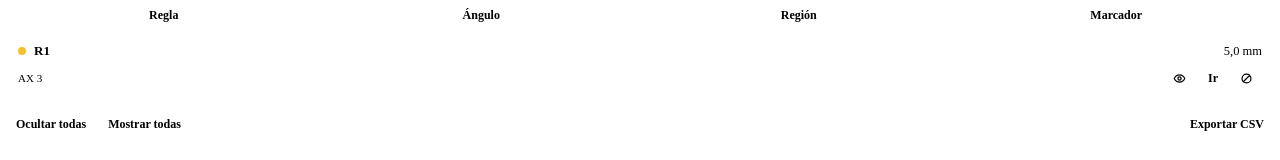
Test case: AnnotationsPanel › renombrar por clic escribe en el store
Click the text "R1": click(42, 50) x1=34 y1=43 x2=50 y2=58
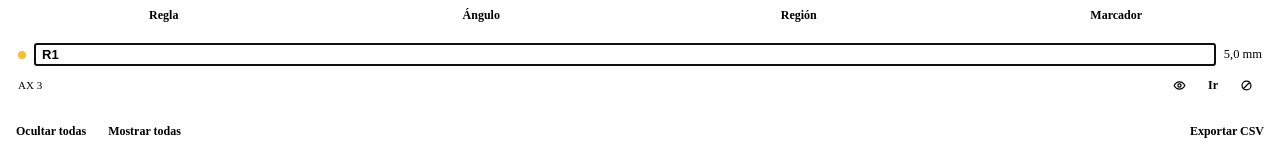
Replace the text in the field showing "R1" with "Cuello": (625, 54) x1=34 y1=43 x2=1216 y2=66
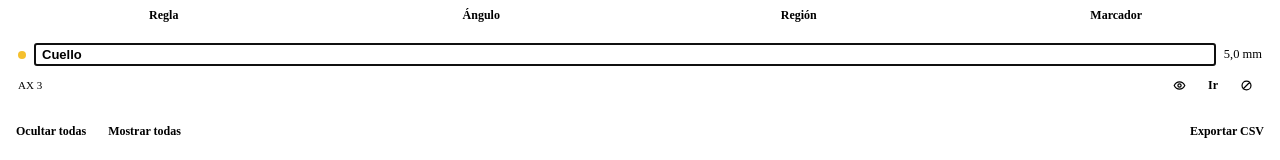
Press Enter in the field showing "R1", box x1=34 y1=43 x2=1216 y2=66
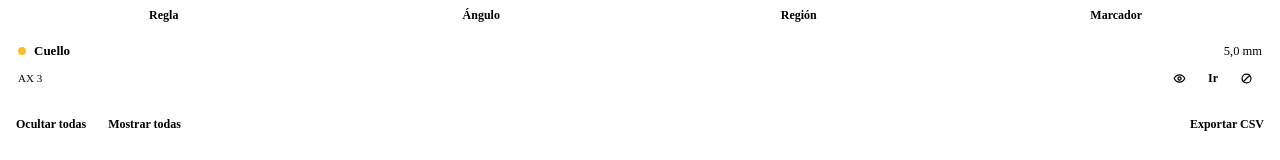
Expected: the text "Cuello" is shown, x1=34 y1=43 x2=70 y2=58
